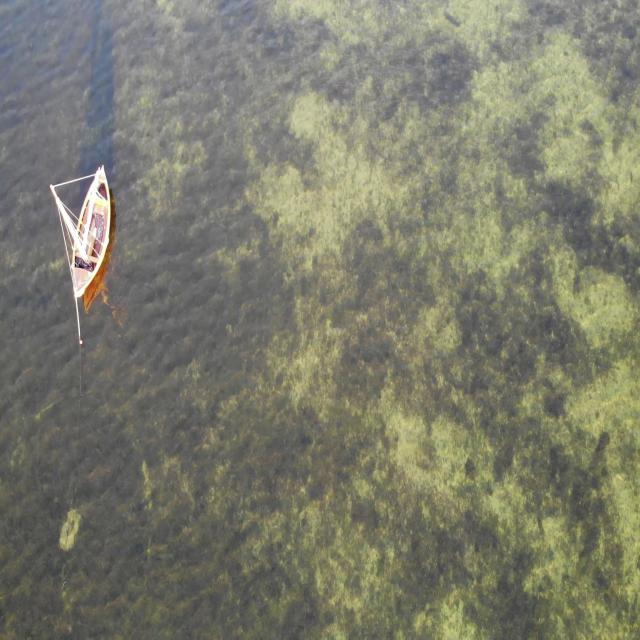sailboat: (49, 161, 112, 299)
